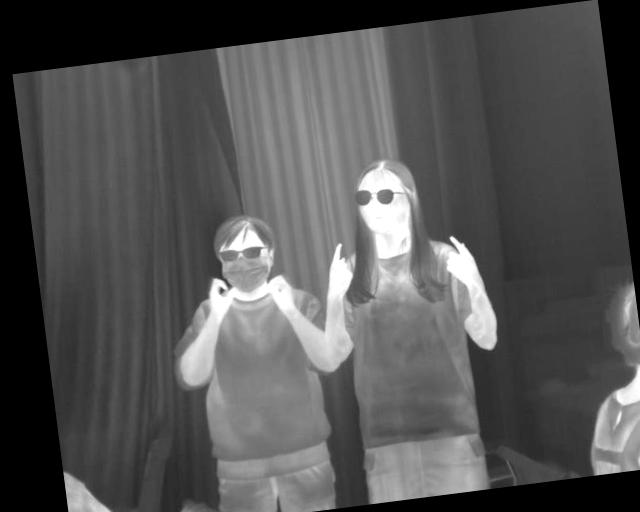face: (211, 211, 280, 296), (350, 156, 418, 237)
